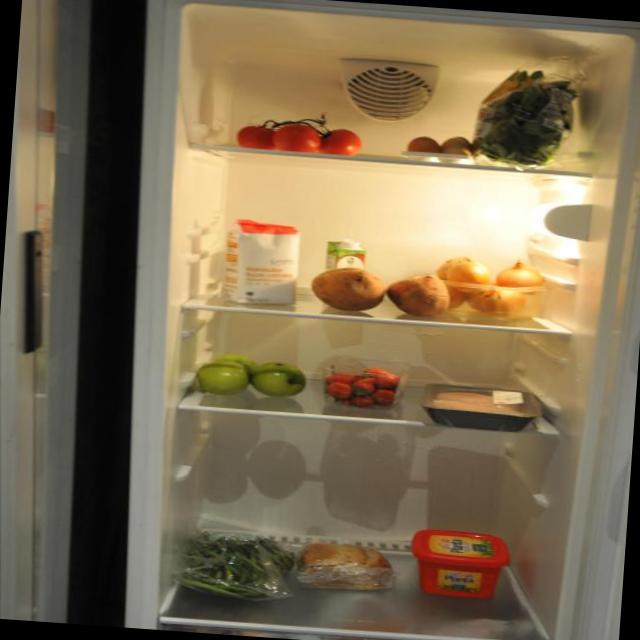Carne pollo: (426, 388, 530, 418)
Cebolla: (435, 255, 546, 319)
Huevos: (402, 133, 479, 160)
Mantequilla: (404, 527, 516, 605)
Manzana: (192, 351, 306, 402)
Tomate: (233, 116, 371, 160)
